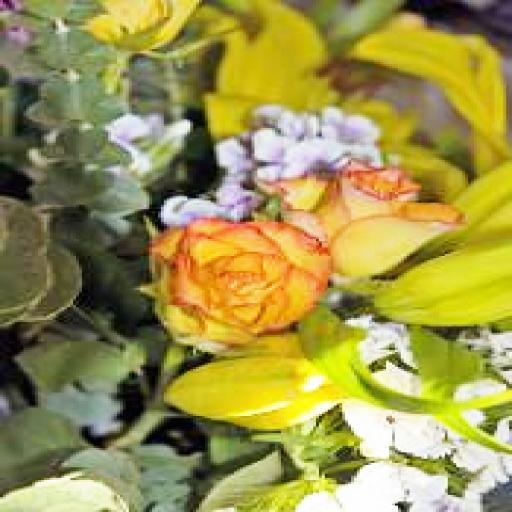rose: (260, 156, 466, 279), (149, 220, 328, 335)
